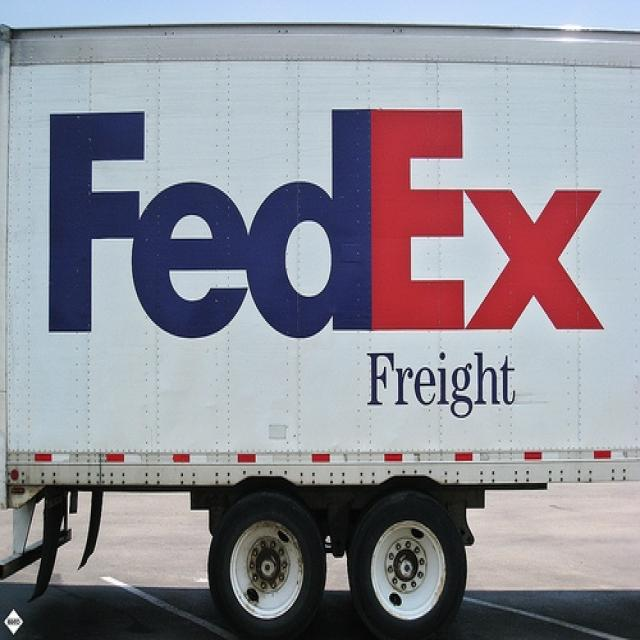fedex: (38, 100, 612, 341)
